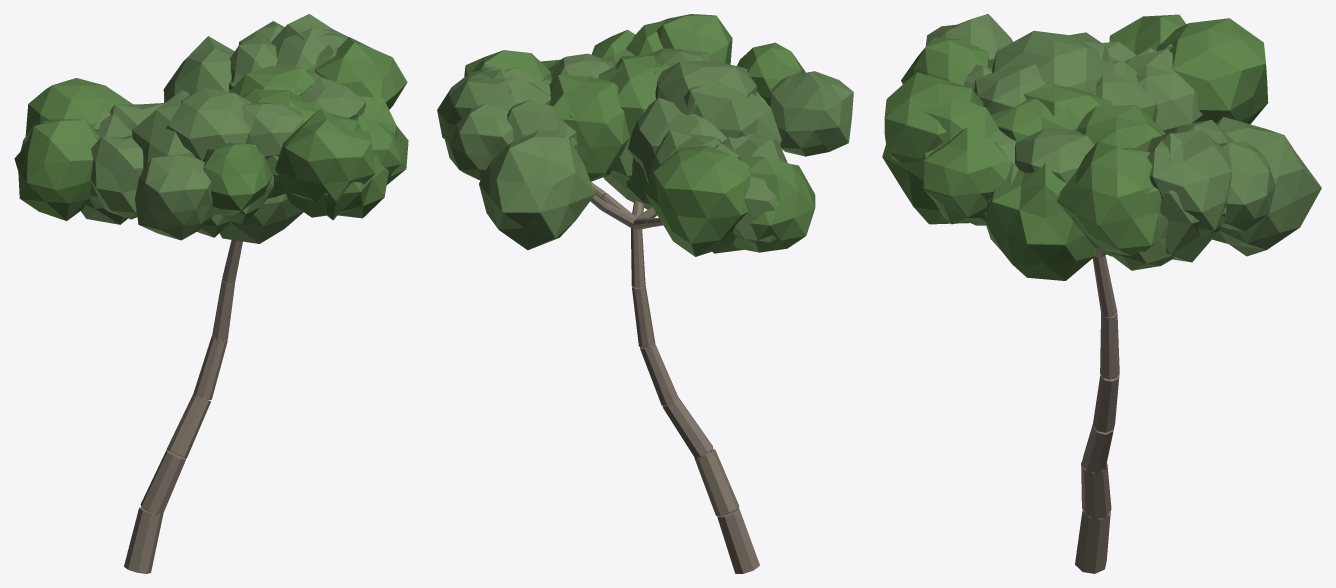
File: UmbrellaPine.fbx
3 views of the same model, side by side, from view 1: azimuth 30°, elevation 25°; view 2: azimuth 150°, elevation 25°; view 3: azimuth 270°, elevation 25° (orthographic). The views are drawn at different scales.
Parts seen in each view (by area): view 1: UmbrellaPine; view 2: UmbrellaPine; view 3: UmbrellaPine.
Boxes of the visible parts, x1,y1,x2,y2 form: UmbrellaPine: (14, 14, 408, 573); UmbrellaPine: (437, 14, 853, 573); UmbrellaPine: (882, 14, 1321, 573).
Bounding box in the file's own units: 7.78 × 9.73 × 6.93.
